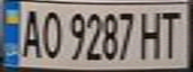2: (84, 8, 106, 61)
7: (118, 8, 139, 61)
8: (103, 8, 121, 61)
9: (63, 8, 87, 61)
A: (15, 6, 45, 60)
H: (136, 8, 166, 60)
O: (36, 7, 63, 60)
T: (154, 7, 187, 60)
